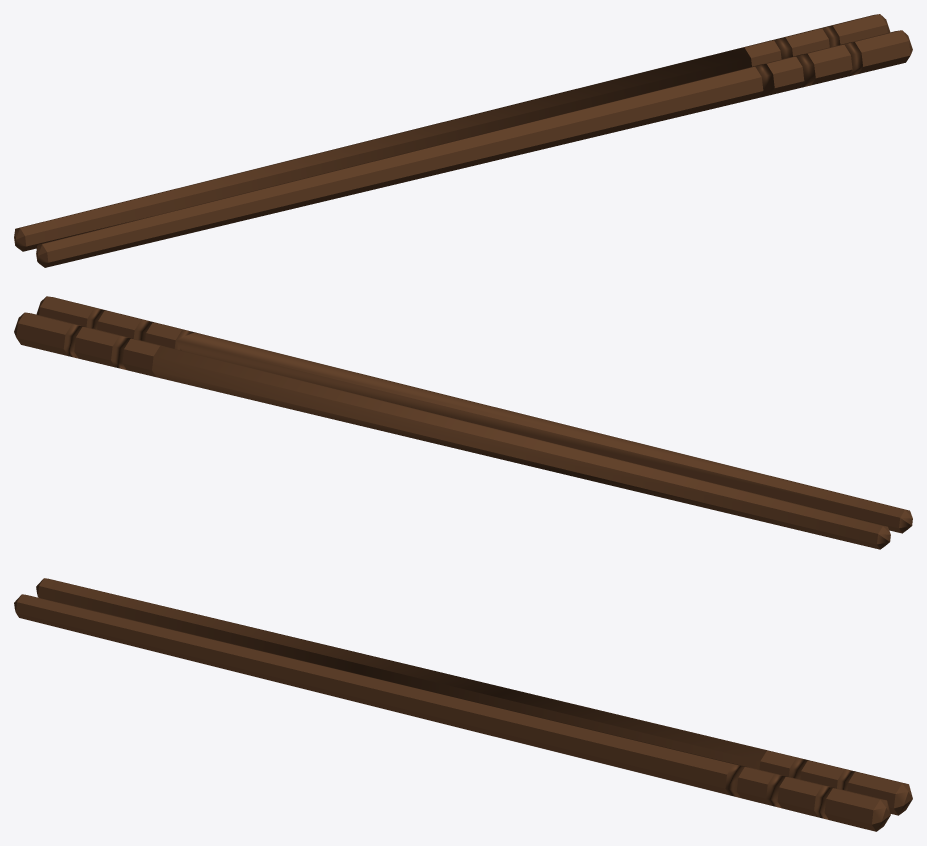
The model's file is cc0-chopsticks-lod1.glb.
3 renders of one model, top to bottom at view 1: azimuth 30°, elevation 25°; view 2: azimuth 150°, elevation 25°; view 3: azimuth 330°, elevation 25°, orthographic.
Visible parts, largest first — view 1: part_0; view 2: part_0; view 3: part_0.
Boxes of the visible parts, box(x1,y1,x2,y2) form: part_0: box(14, 14, 912, 267); part_0: box(14, 296, 912, 549); part_0: box(14, 578, 912, 831).
Bounding box in the file's own units: 1.63 × 0.0532 × 0.1261.
